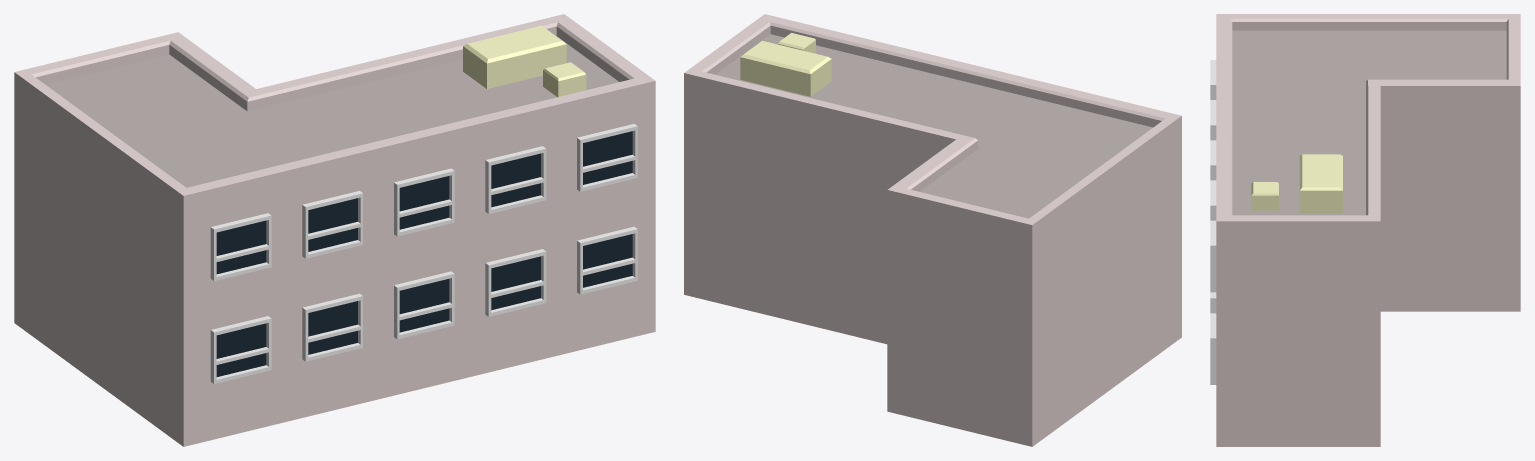
Rendered from building02.fbx.
3 renders of one model, left to right at view 1: azimuth 30°, elevation 25°; view 2: azimuth 150°, elevation 25°; view 3: azimuth 270°, elevation 25°, orthographic. The views are drawn at different scales.
Parts seen in each view (by area): view 1: Building02; view 2: Building02; view 3: Building02.
Boxes of the visible parts, x1,y1,x2,y2 form: Building02: (14,14,655,446); Building02: (684,14,1181,446); Building02: (1210,14,1520,446).
Size of the model in its own units: 181 by 115 by 97.8.
